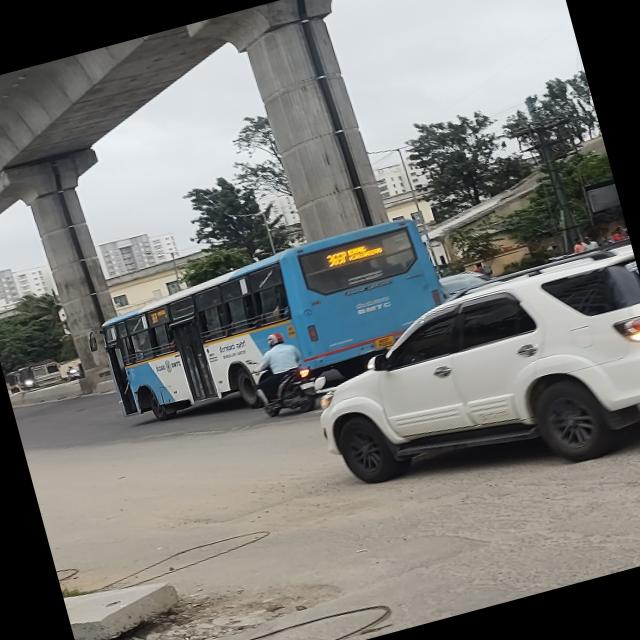bus: (73, 210, 470, 441)
display: (324, 237, 386, 270)
dnumber: (326, 248, 349, 268)
